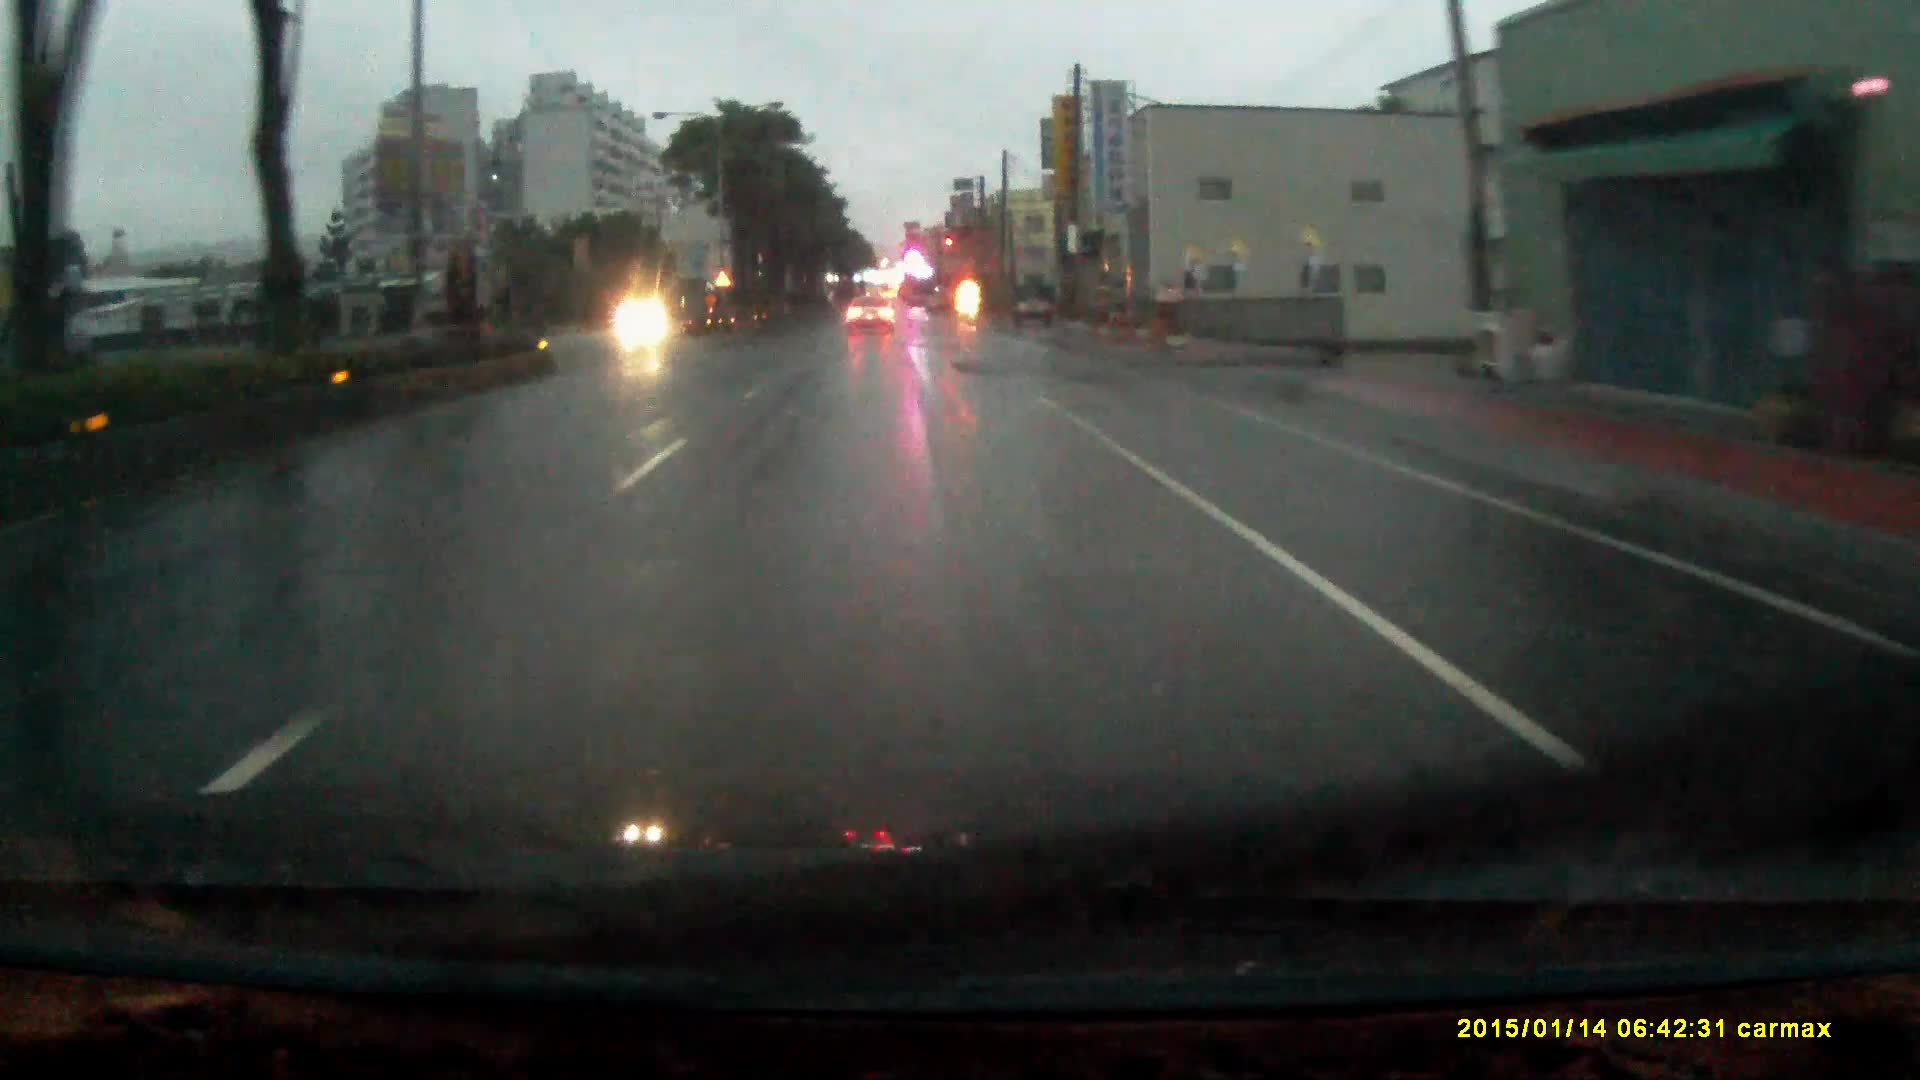vehicle: (847, 295, 898, 335), (1017, 286, 1054, 330)
